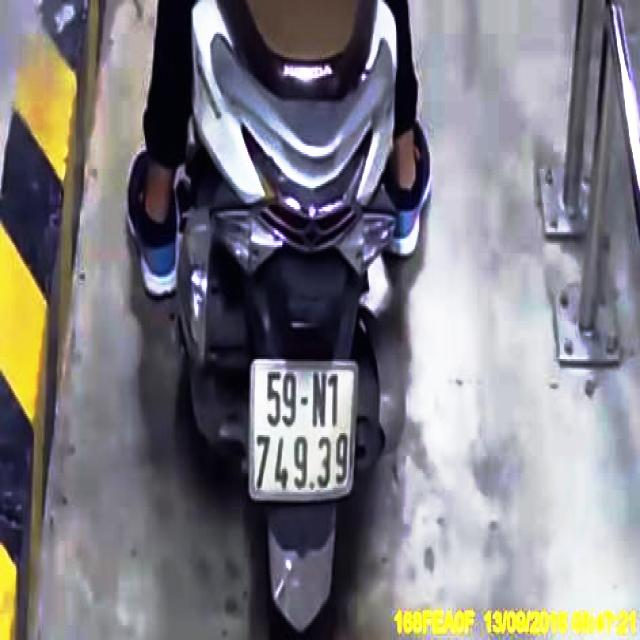license_plate: (252, 360, 359, 500)
